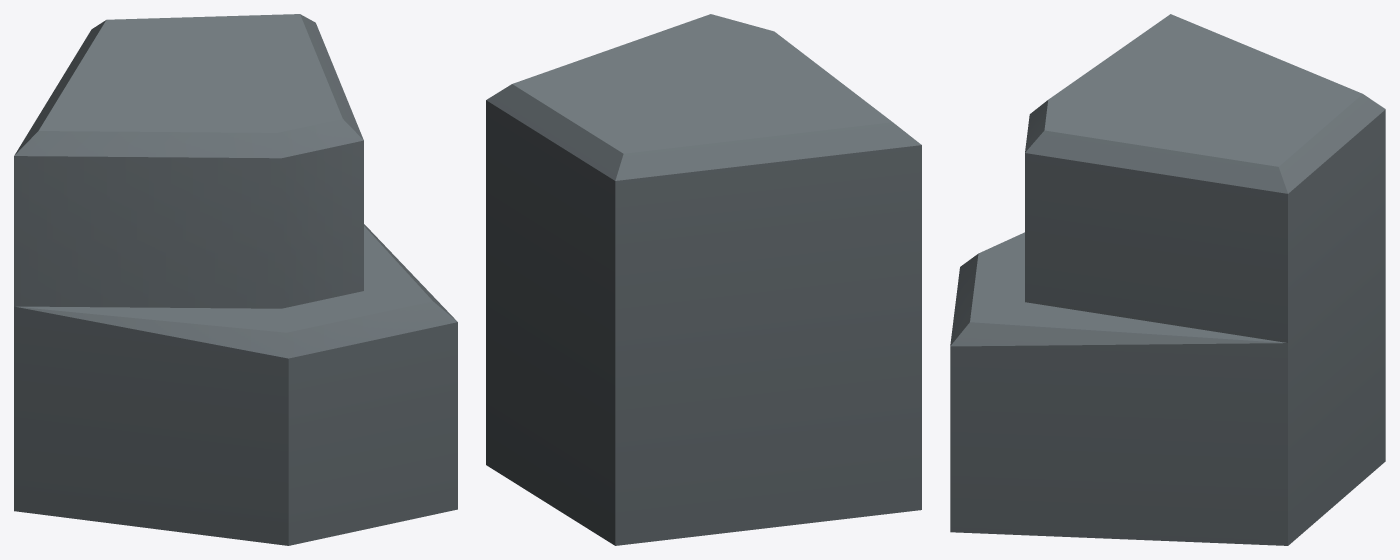
The model's file is Rock_1_B_Color1.glb.
3 views of the same model, side by side, from view 1: azimuth 30°, elevation 25°; view 2: azimuth 150°, elevation 25°; view 3: azimuth 270°, elevation 25° (orthographic). The views are drawn at different scales.
Parts seen in each view (by area): view 1: Rock_1_B_Color1; view 2: Rock_1_B_Color1; view 3: Rock_1_B_Color1.
Part boxes in pixels (<box>): Rock_1_B_Color1: <box>14,14,457,545</box>; Rock_1_B_Color1: <box>486,14,921,545</box>; Rock_1_B_Color1: <box>950,14,1385,545</box>.
Size of the model in its own units: 0.5511 by 0.5403 by 0.5778.
Materials: 1 (1 with a texture image).
